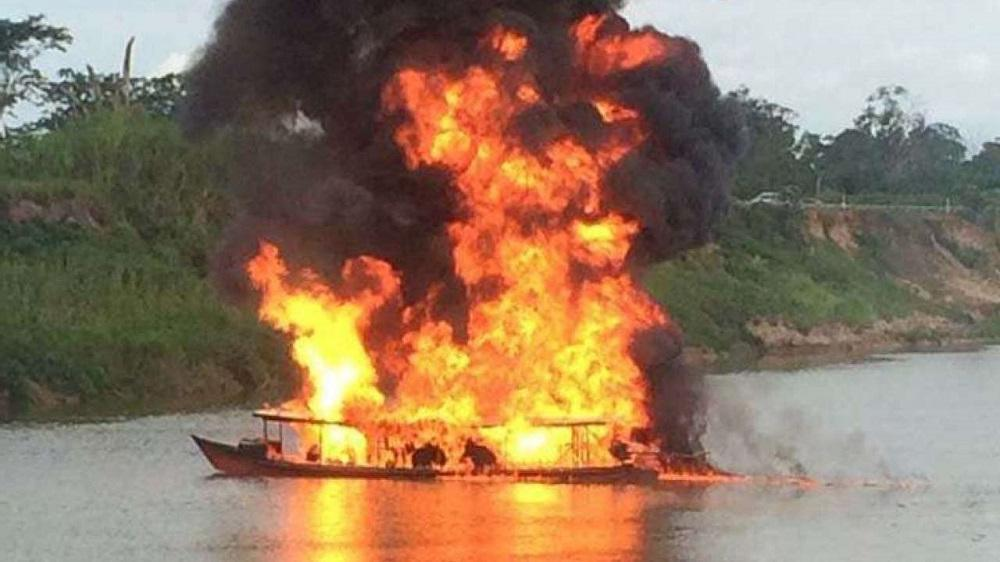Fire: (261, 16, 662, 454), (431, 466, 552, 483), (662, 470, 728, 484)
